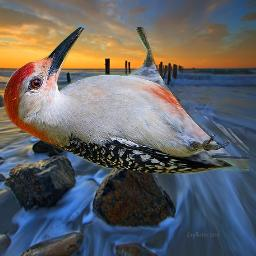Woodpecker: (4, 27, 249, 175)
